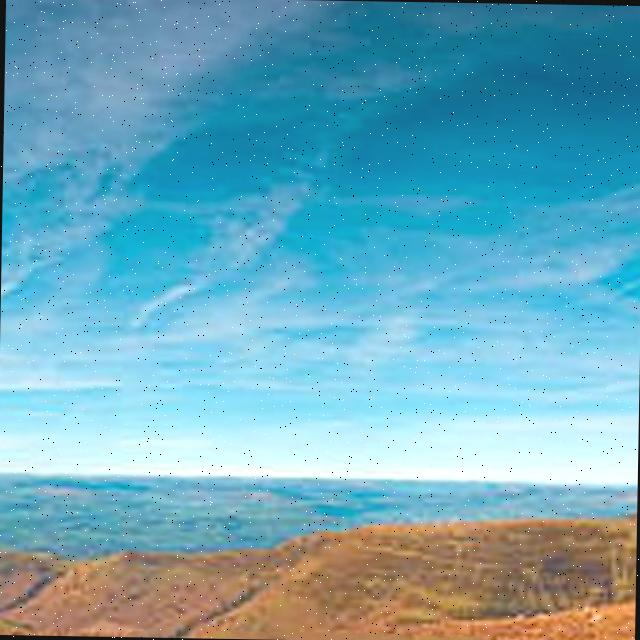Ci: (1, 33, 640, 447)
